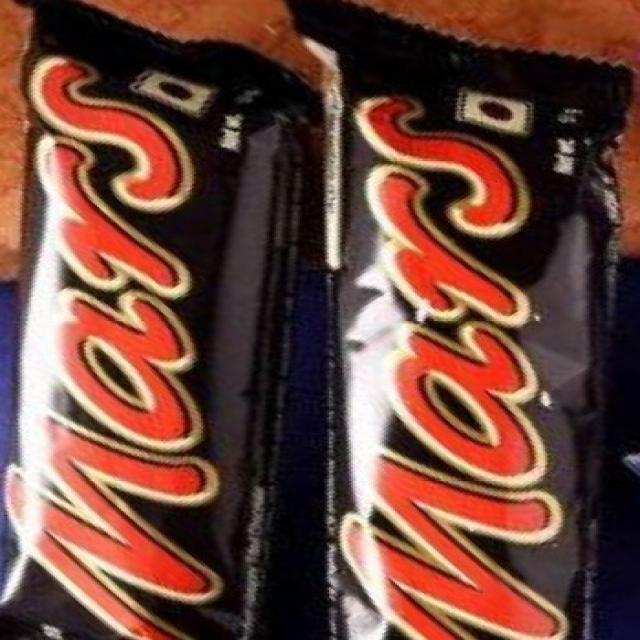Dry: (314, 1, 640, 639), (0, 0, 306, 640)
